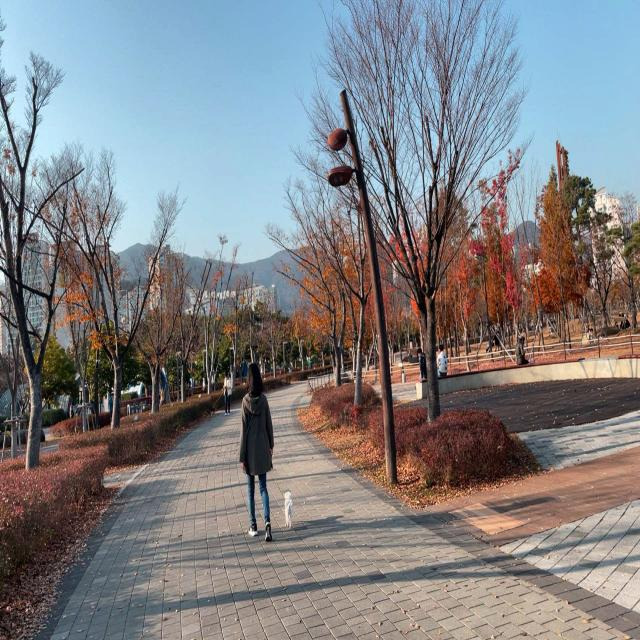Leashed_Dog: (260, 440, 294, 530)
